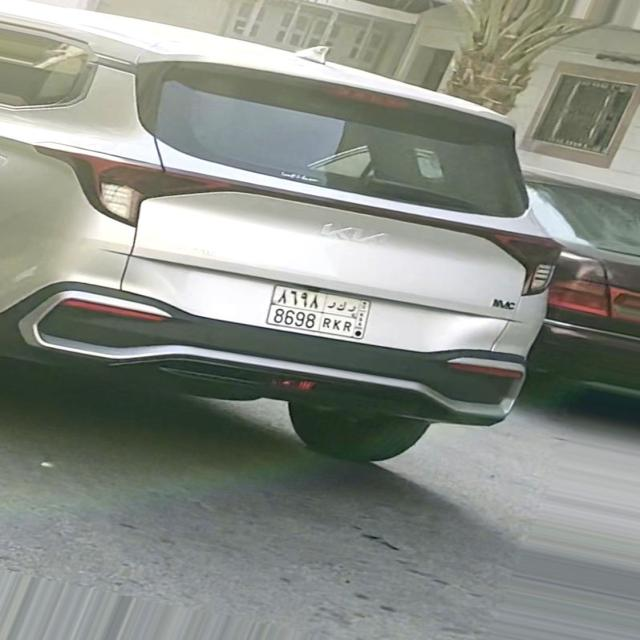Car-plate: (253, 273, 391, 349)
